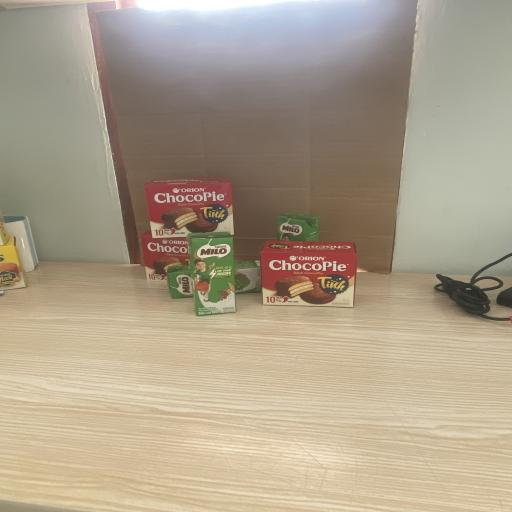chocopie: (258, 240, 357, 308), (144, 176, 234, 238), (141, 229, 192, 284)
milo: (189, 232, 237, 317), (165, 258, 260, 299), (275, 212, 321, 241)
